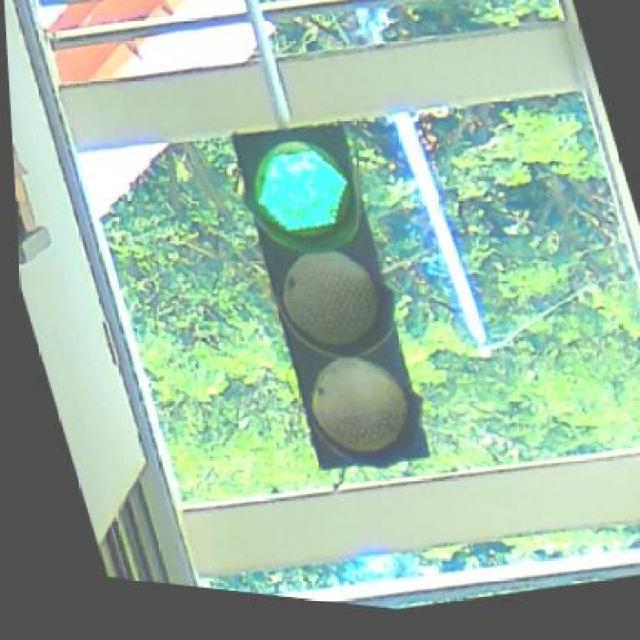green_light: (229, 124, 433, 470)
